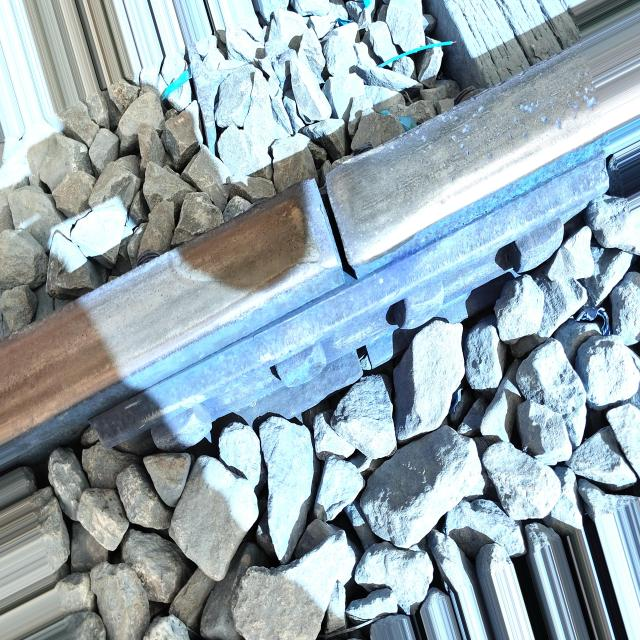crack: (292, 146, 376, 295)
